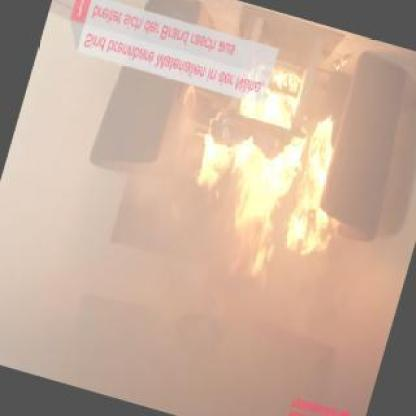Fire: (186, 74, 363, 260)
